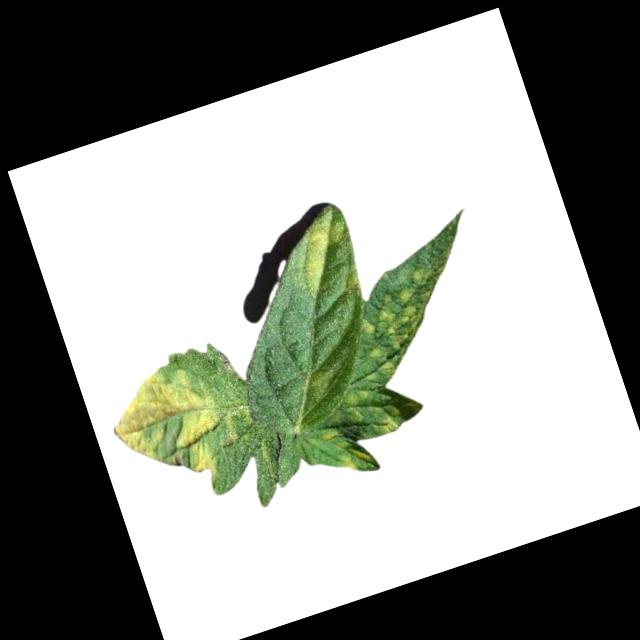Leaf_Mold: (99, 351, 251, 504), (342, 258, 474, 385), (286, 212, 366, 306), (319, 420, 381, 484), (369, 397, 409, 437)
